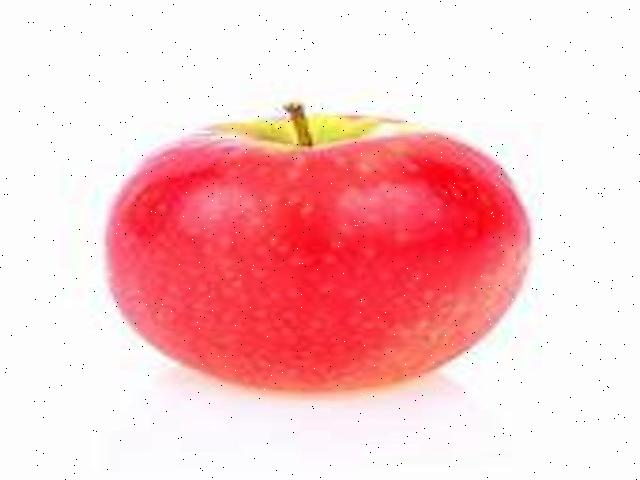apple: (99, 95, 539, 399)
